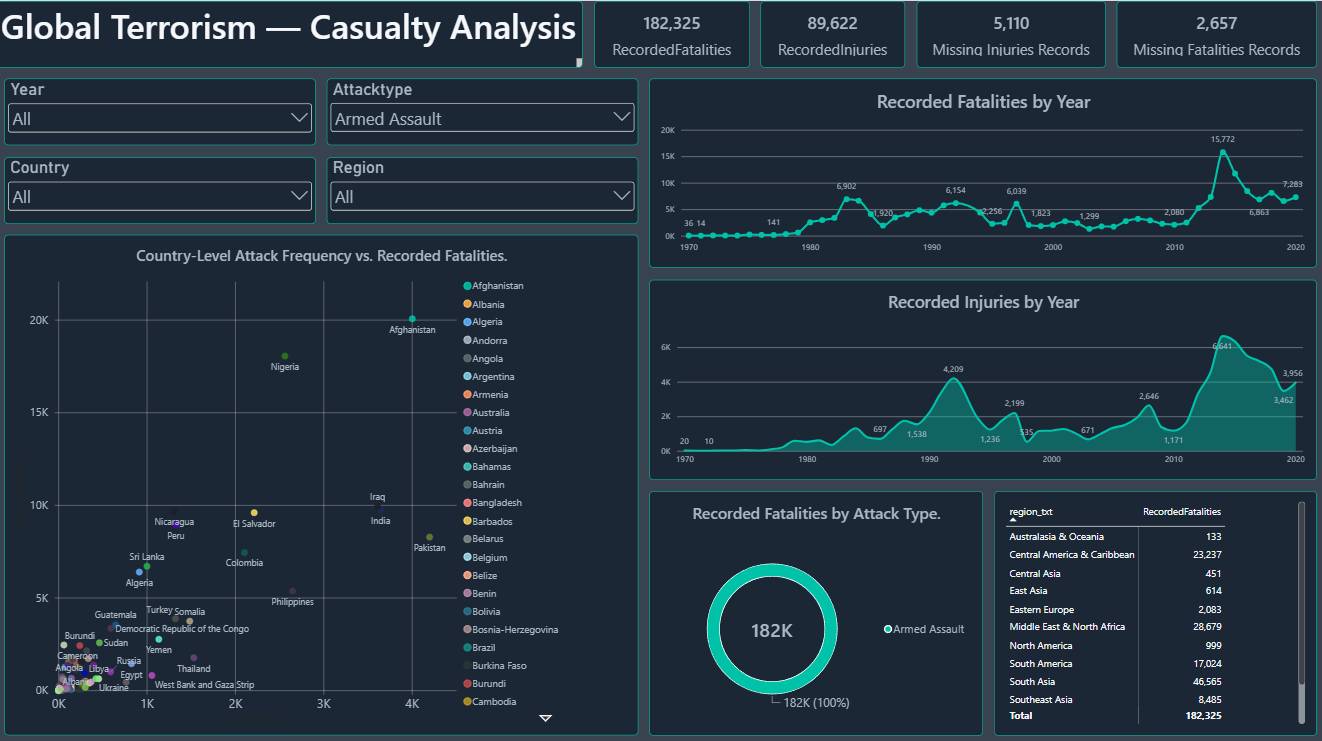

Layout of this report page (visuals, bound fields, positions):
{"tool":"powerbi","page":{"name":"Casualty Analysis","canvas":[1920,1080],"ordinal":3},"visuals":[{"type":"textbox","title":"Global Terrorism — Casualty Analysis","box":[0,0,848,96],"z":0},{"type":"card","fields":{"Values":["Measure.RecordedFatalities"]},"box":[864,0,224,96],"z":1000},{"type":"card","fields":{"Values":["Measure.RecordedInjuries"]},"box":[1104,0,208,96],"z":2000},{"type":"card","fields":{"Values":["Measure.Missing Fatalities Records"]},"box":[1616,0,288,96],"z":3000},{"type":"card","fields":{"Values":["Measure.Missing Injuries Records"]},"box":[1328,0,272,96],"z":4000},{"type":"lineChart","title":"Recorded Fatalities by Year","fields":{"Category":["GlobalTerrorism.iyear"],"Y":["Measure.RecordedFatalities"]},"box":[944,112,960,272],"z":5000},{"type":"areaChart","title":"Recorded Injuries by Year","fields":{"Category":["GlobalTerrorism.iyear"],"Y":["Measure.RecordedInjuries"]},"box":[944,400,960,288],"z":6000},{"type":"donutChart","title":"Recorded Fatalities by Attack Type.","fields":{"Category":["GlobalTerrorism.attacktype1_txt"],"Y":["Measure.RecordedFatalities"]},"box":[944,704,480,352],"z":7000},{"type":"scatterChart","title":"Country-Level Attack Frequency vs. Recorded Fatalities.","fields":{"Category":["GlobalTerrorism.country_txt"],"Series":["GlobalTerrorism.country_txt"],"X":["Measure.Total Attacks"],"Y":["Measure.RecordedFatalities"]},"box":[16,336,912,720],"z":8000},{"type":"pivotTable","fields":{"Rows":["GlobalTerrorism.region_txt"],"Values":["Measure.RecordedFatalities"]},"box":[1440,704,464,352],"z":9000},{"type":"slicer","fields":{"Values":["GlobalTerrorism.iyear"]},"box":[16,112,448,96],"z":10000},{"type":"slicer","fields":{"Values":["GlobalTerrorism.attacktype1_txt"]},"box":[480,112,448,96],"z":11000},{"type":"slicer","fields":{"Values":["GlobalTerrorism.country_txt"]},"box":[16,224,448,96],"z":12000},{"type":"slicer","fields":{"Values":["GlobalTerrorism.region_txt"]},"box":[480,224,448,96],"z":13000}]}

Visuals, with their boxes in screenshot pixels (x1, y1, x2, y2), scaled from the page's 1920x1080 canvas onto the 1322x741 screenshot:
"Global Terrorism — Casualty Analysis" textbox: locate(0, 0, 584, 66)
card - Measure.RecordedFatalities: locate(595, 0, 749, 66)
card - Measure.RecordedInjuries: locate(760, 0, 903, 66)
card - Measure.Missing Fatalities Records: locate(1113, 0, 1311, 66)
card - Measure.Missing Injuries Records: locate(914, 0, 1102, 66)
"Recorded Fatalities by Year" lineChart: locate(650, 77, 1311, 263)
"Recorded Injuries by Year" areaChart: locate(650, 274, 1311, 472)
"Recorded Fatalities by Attack Type." donutChart: locate(650, 483, 980, 725)
"Country-Level Attack Frequency vs. Recorded Fatalities." scatterChart: locate(11, 231, 639, 725)
pivotTable - GlobalTerrorism.region_txt x Measure.RecordedFatalities: locate(992, 483, 1311, 725)
slicer - GlobalTerrorism.iyear: locate(11, 77, 319, 143)
slicer - GlobalTerrorism.attacktype1_txt: locate(330, 77, 639, 143)
slicer - GlobalTerrorism.country_txt: locate(11, 154, 319, 220)
slicer - GlobalTerrorism.region_txt: locate(330, 154, 639, 220)
